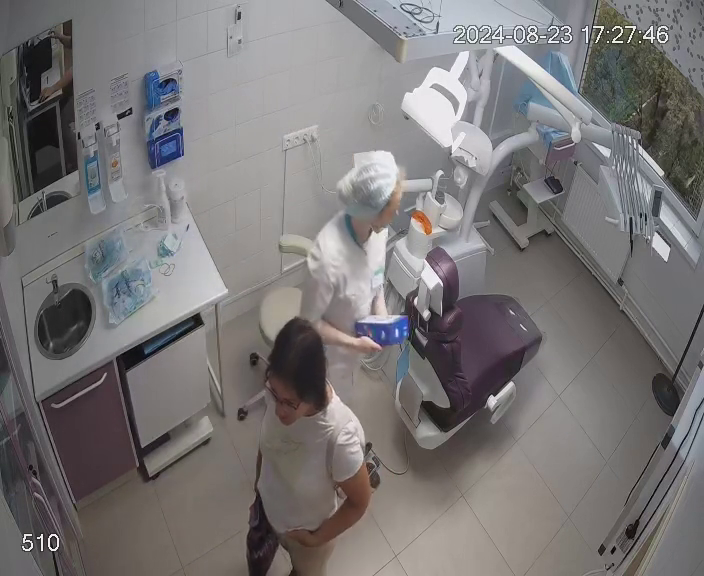Empty: (374, 251, 544, 456)
